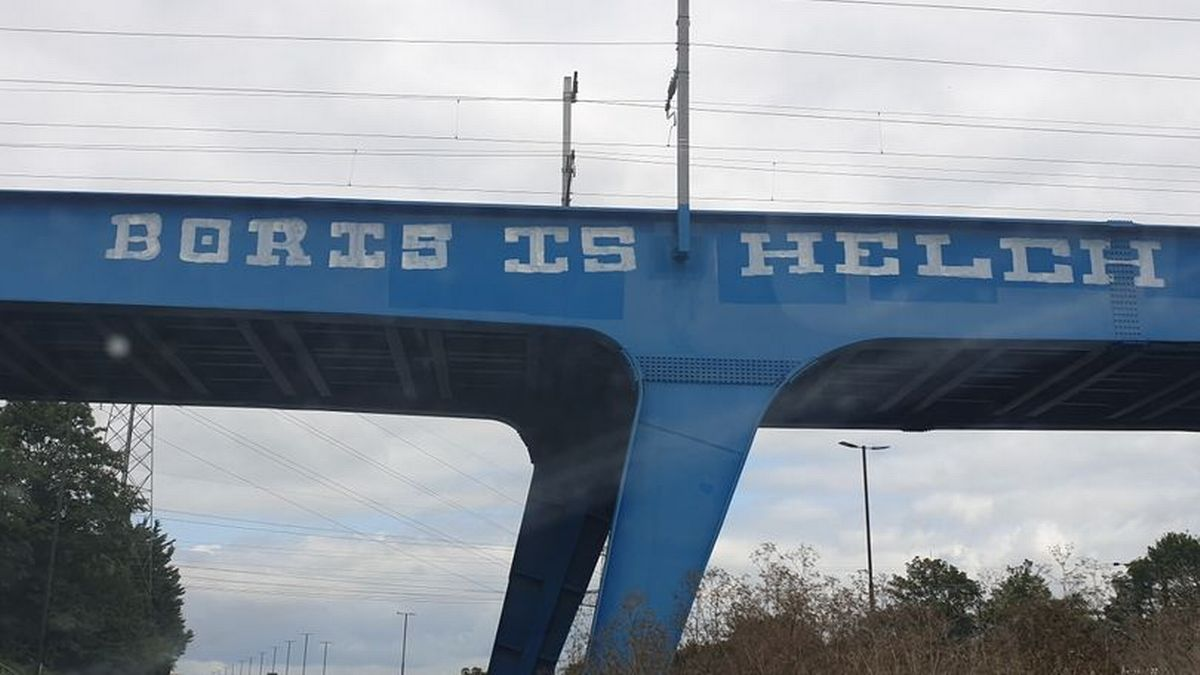bridge: (3, 191, 1200, 675)
